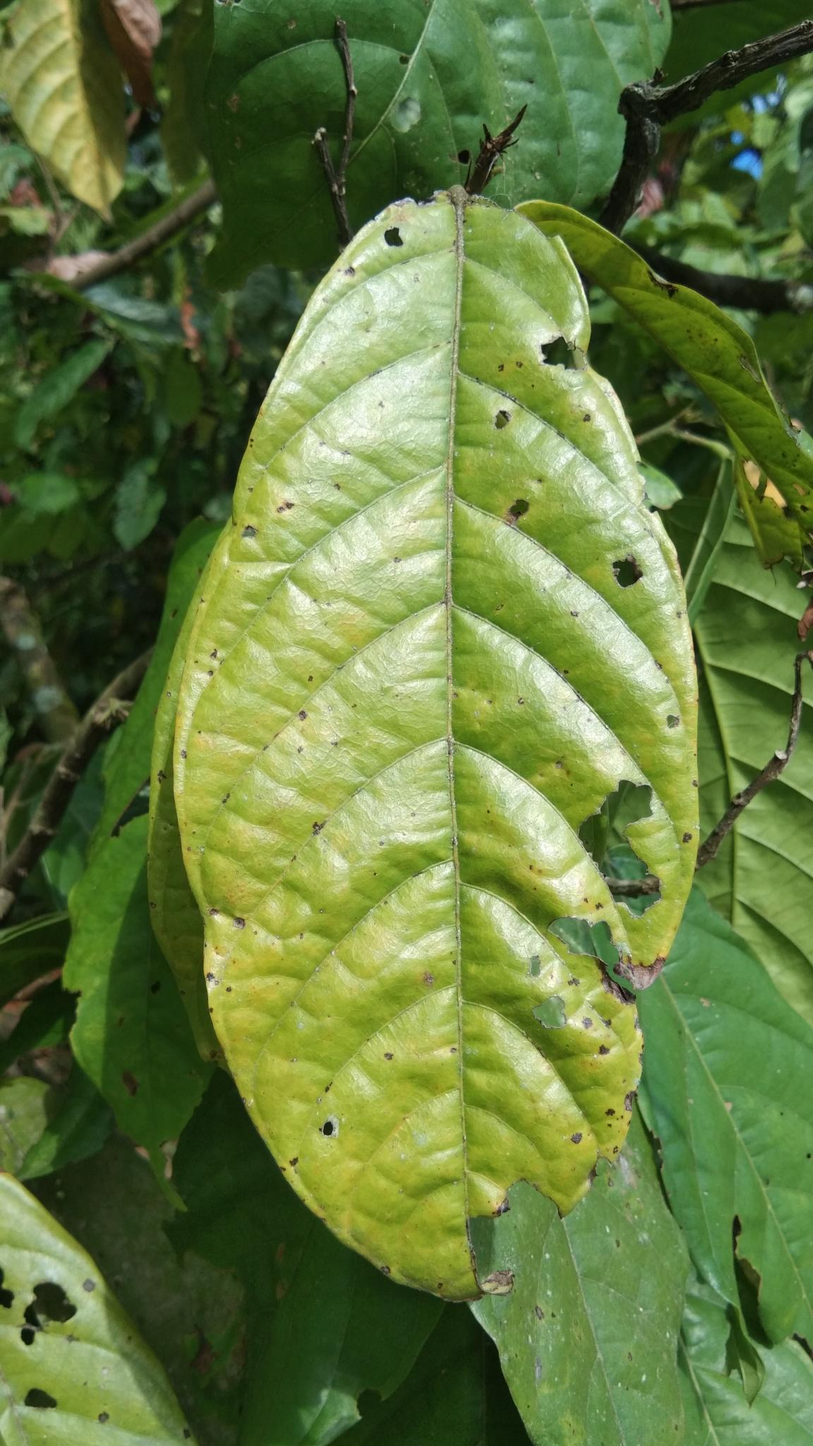Fosforo: (177, 195, 691, 1342)
